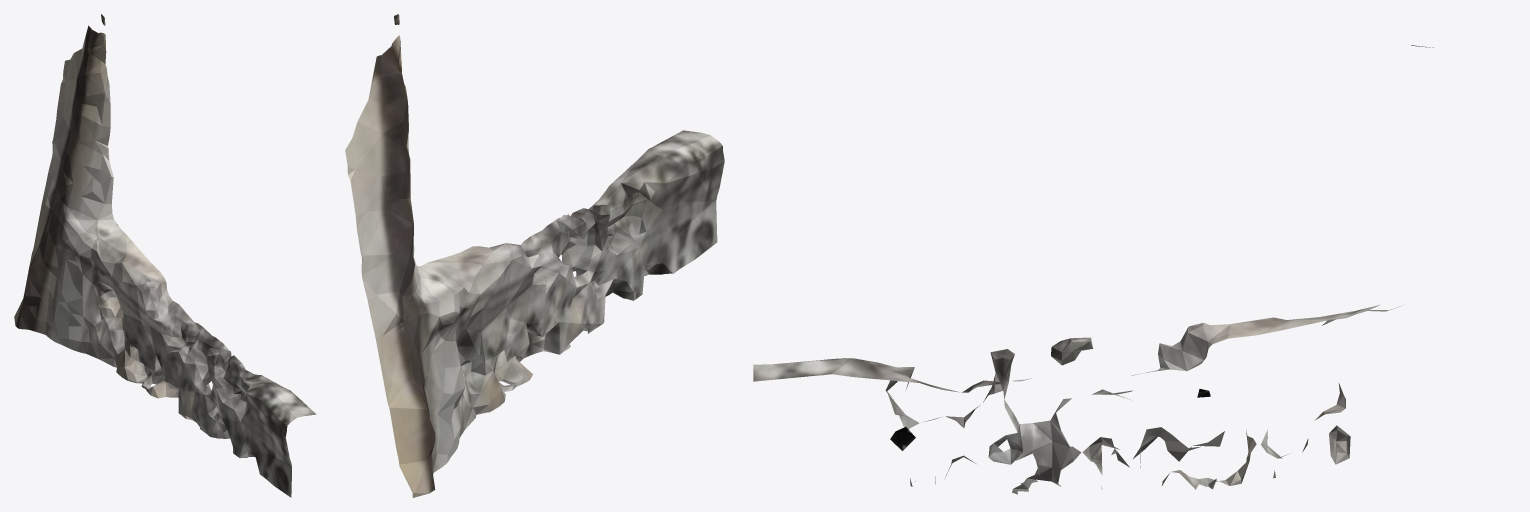
The picture shows the model from 3 angles, left to right: view 1: azimuth 30°, elevation 25°; view 2: azimuth 150°, elevation 25°; view 3: azimuth 270°, elevation 25°; orthographic projection. The views are drawn at different scales.
Size of the model in its own units: 0.2176 by 1.17 by 1.67.
1 material, 1 textured.
